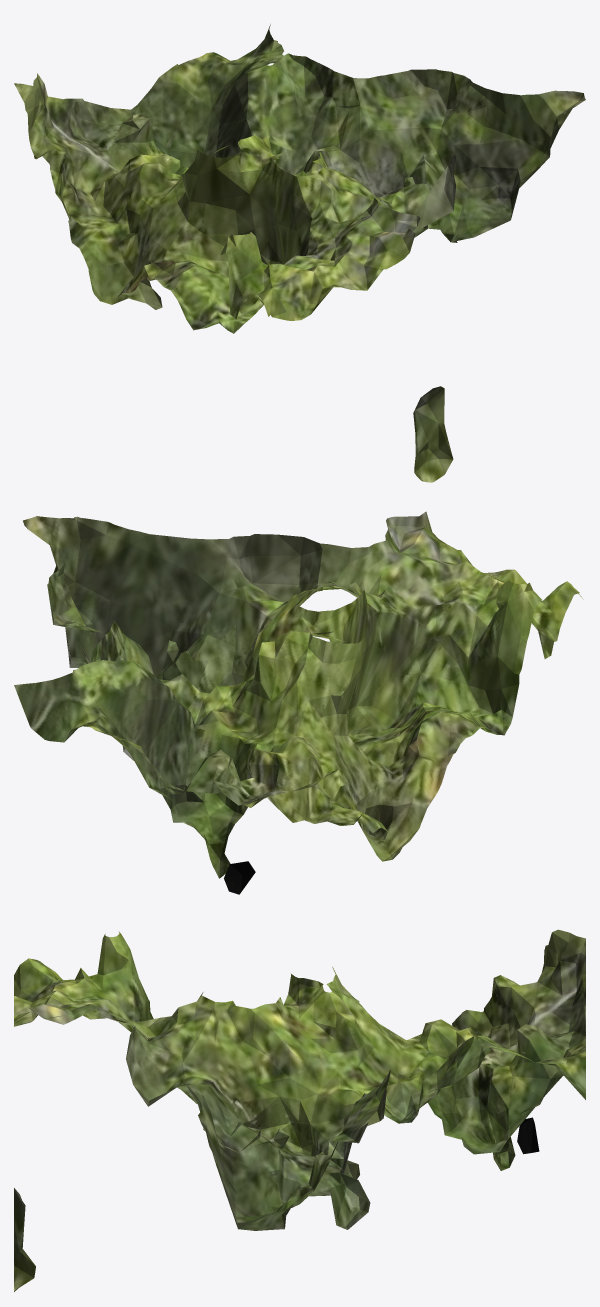
3 views of the same model, one above another, from view 1: azimuth 30°, elevation 25°; view 2: azimuth 150°, elevation 25°; view 3: azimuth 270°, elevation 25° (orthographic). The views are drawn at different scales.
Size of the model in its own units: 2.74 by 1.59 by 2.95.
Materials: 3 (3 with a texture image).
